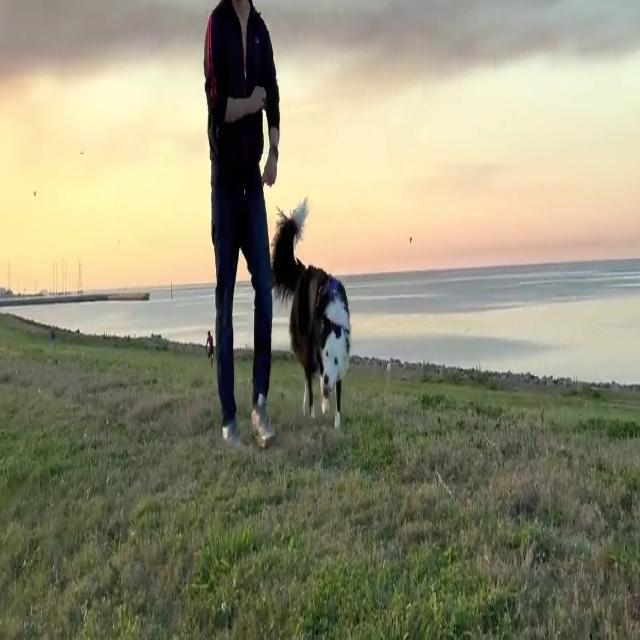Unleashed_Dog: (230, 185, 350, 433)
